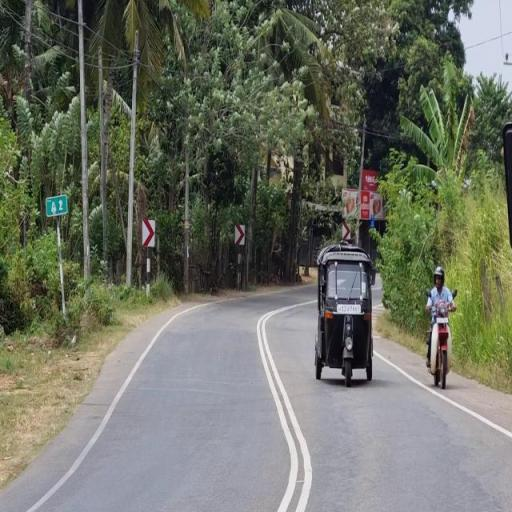double_white_line: (258, 302, 311, 510)
